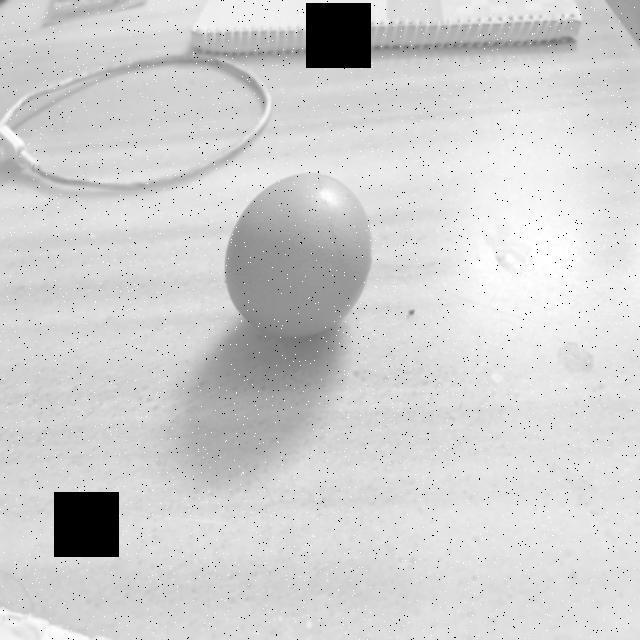egg: (222, 171, 372, 341)
